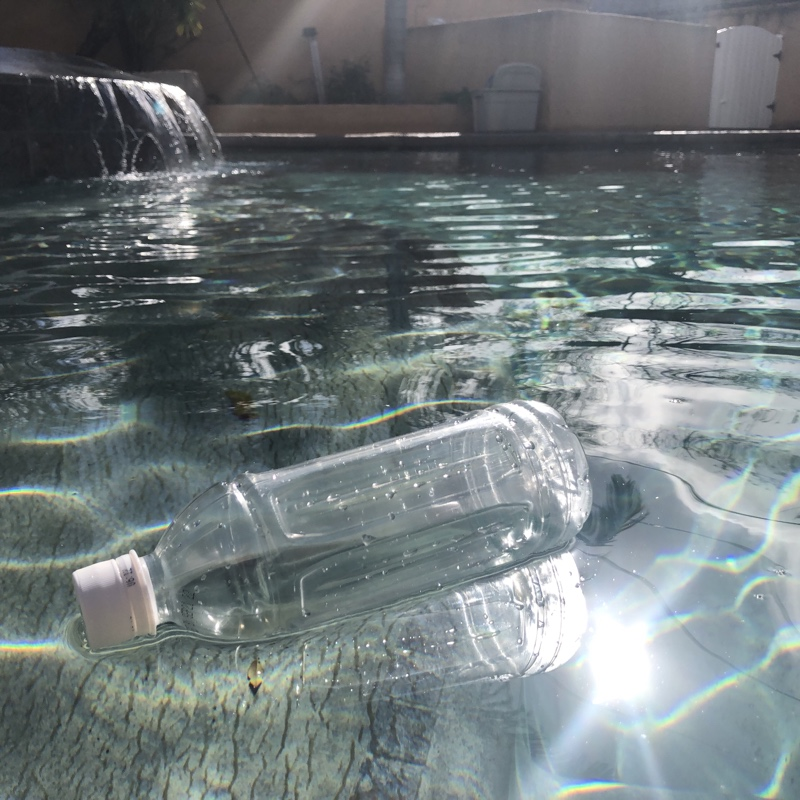Plastic Bottle: (66, 396, 598, 662)
